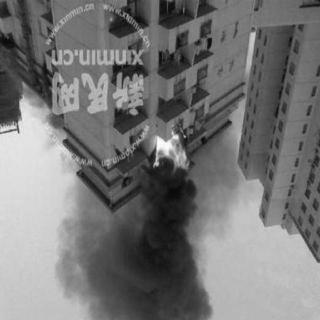Smoke: (199, 149, 239, 210)
